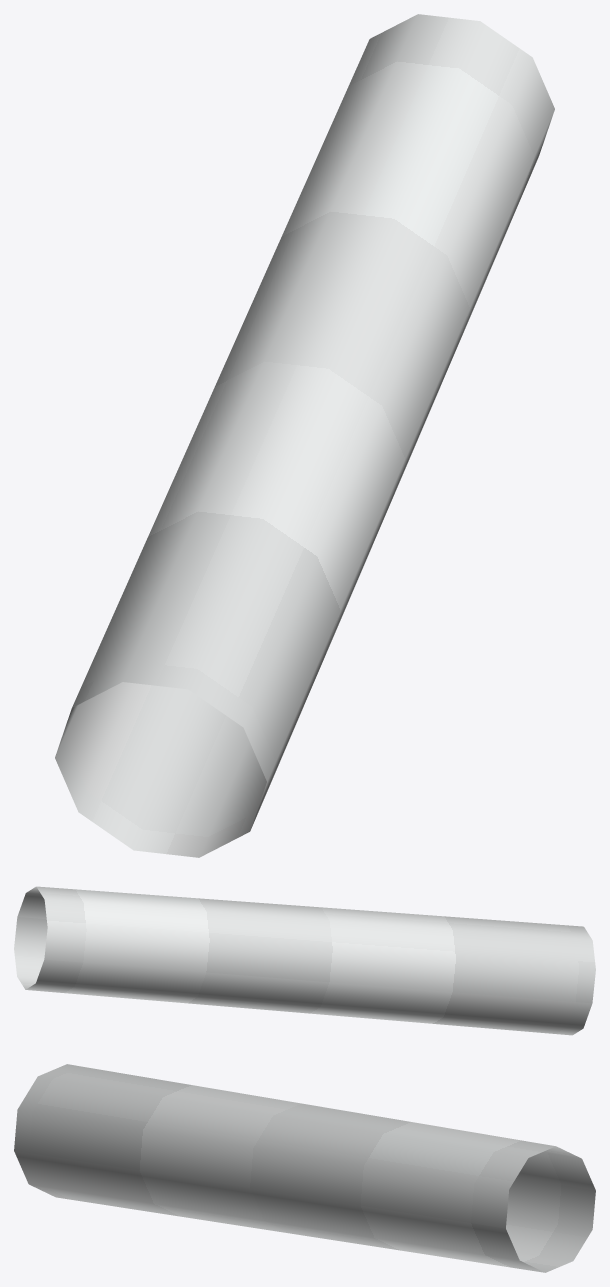
File: nycsignalarm_diagonal8_c12.obj
The picture shows the model from 3 angles, top to bottom: view 1: azimuth 30°, elevation 25°; view 2: azimuth 150°, elevation 25°; view 3: azimuth 270°, elevation 25°; orthographic projection. The views are drawn at different scales.
Visible parts, largest first — view 1: nycsignalarm_diagonal8_c12; view 2: nycsignalarm_diagonal8_c12; view 3: nycsignalarm_diagonal8_c12.
Boxes of the visible parts, box(x1,y1,x2,y2) form: nycsignalarm_diagonal8_c12: box(55, 14, 554, 857); nycsignalarm_diagonal8_c12: box(14, 886, 595, 1035); nycsignalarm_diagonal8_c12: box(14, 1064, 595, 1272).
Bounding box in the file's own units: 1.19 × 0.5376 × 1.19.
